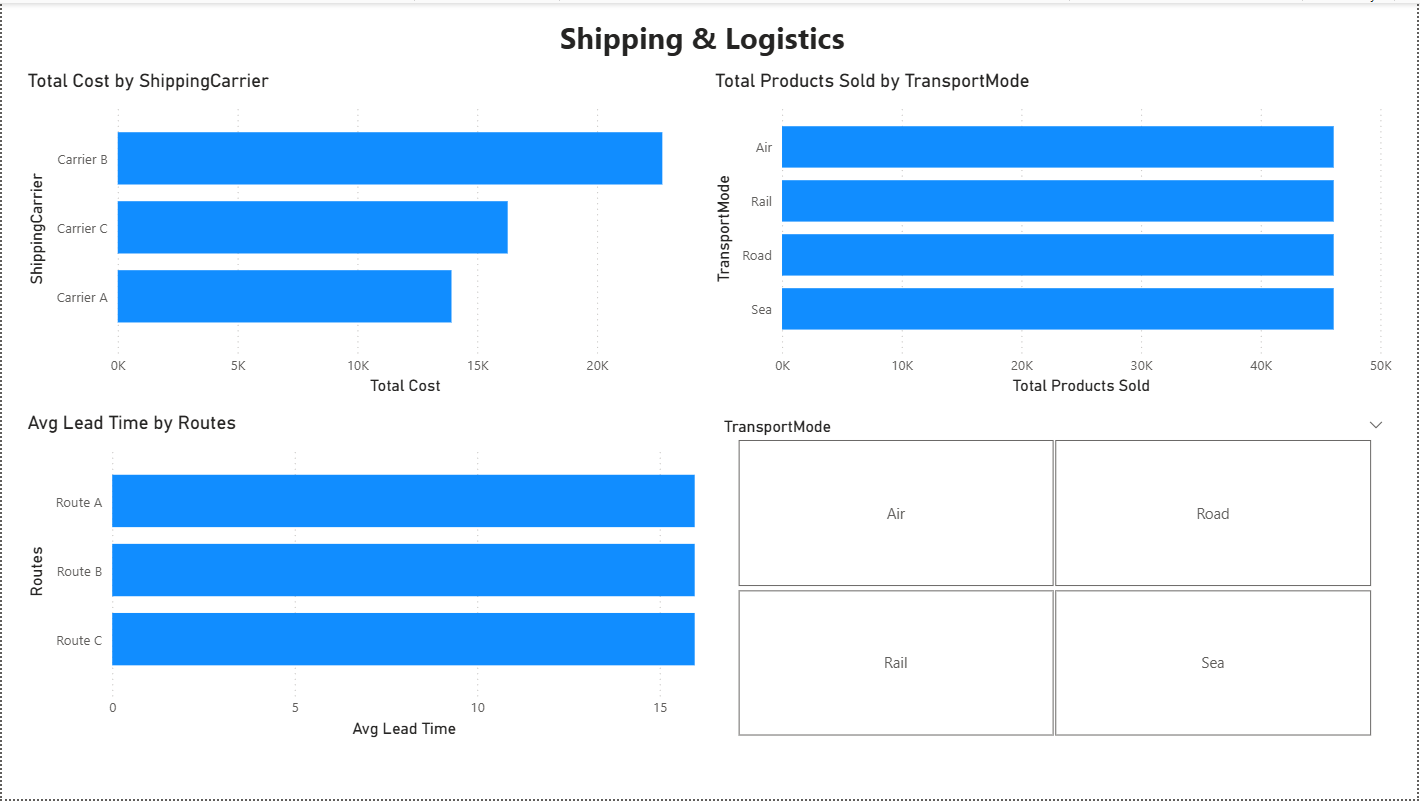

What the dashboard file says about the page in this screenshot:
{"tool":"powerbi","page":{"name":"Page 3","canvas":[1280,720],"ordinal":2},"visuals":[{"type":"textbox","box":[499.8,8.4,280.4,51.5],"z":0},{"type":"clusteredBarChart","fields":{"Category":["DimShipping.ShippingCarrier"],"Y":["FactSupplyChain.Total Cost"]},"box":[18,59.9,622,299.6],"z":1000},{"type":"clusteredBarChart","fields":{"Category":["DimShipping.TransportMode"],"Y":["FactSupplyChain.Total Products Sold"]},"box":[640,59.9,622,299.6],"z":2000},{"type":"clusteredBarChart","fields":{"Y":["FactSupplyChain.Avg Lead Time"],"Category":["DimShipping.Routes"]},"box":[18,370,622,300],"z":3000},{"type":"slicer","fields":{"Values":["DimShipping.TransportMode"]},"box":[640,370,622,300],"z":4000}]}

Visuals, with their boxes in screenshot pixels (x1, y1, x2, y2), scaled from the page's 1280x720 canvas onto the 1420x802 screenshot:
textbox: crop(554, 9, 866, 67)
clusteredBarChart - DimShipping.ShippingCarrier x FactSupplyChain.Total Cost: crop(20, 67, 710, 400)
clusteredBarChart - DimShipping.TransportMode x FactSupplyChain.Total Products Sold: crop(710, 67, 1400, 400)
clusteredBarChart - FactSupplyChain.Avg Lead Time x DimShipping.Routes: crop(20, 412, 710, 746)
slicer - DimShipping.TransportMode: crop(710, 412, 1400, 746)
